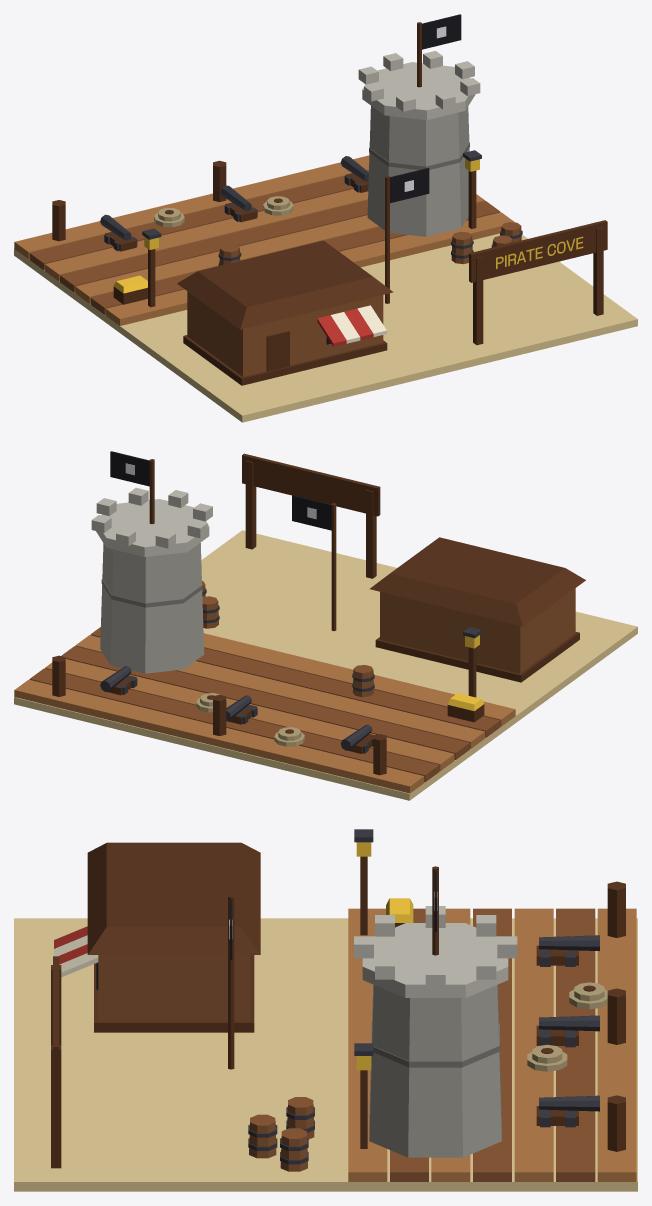
File: pirate-cove-t2.glb
The picture shows the model from 3 angles, top to bottom: view 1: azimuth 30°, elevation 25°; view 2: azimuth 150°, elevation 25°; view 3: azimuth 270°, elevation 25°; orthographic projection. The views are drawn at different scales.
Visible parts, largest first — view 1: PirateCoveT2; view 2: PirateCoveT2; view 3: PirateCoveT2.
Part boxes in pixels (x1=…): PirateCoveT2: x1=14, y1=14, x2=637, y2=422; PirateCoveT2: x1=14, y1=451, x2=637, y2=800; PirateCoveT2: x1=14, y1=829, x2=637, y2=1191.
Size of the model in its own units: 2.96 by 1.47 by 2.96.
1 material, 1 textured.
